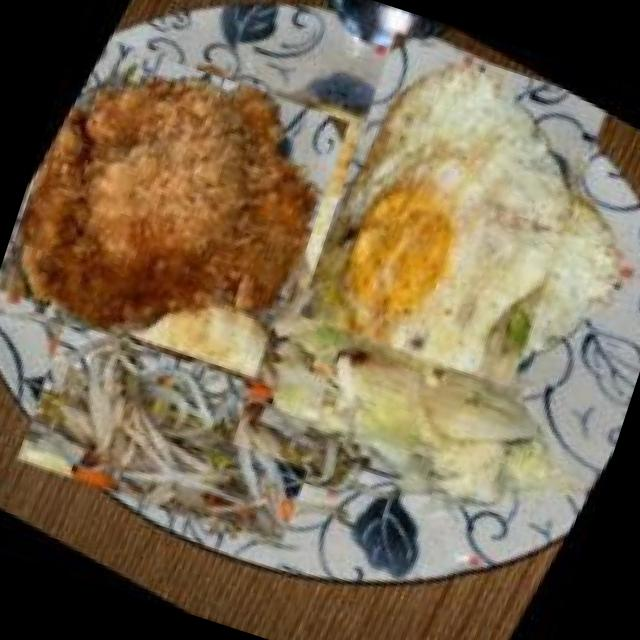chinese_cabbage: (189, 248, 626, 612)
fried_chicken: (0, 0, 406, 439)
fried_eggs: (185, 0, 640, 505)
mung_bean_sprouts: (0, 267, 369, 605)
